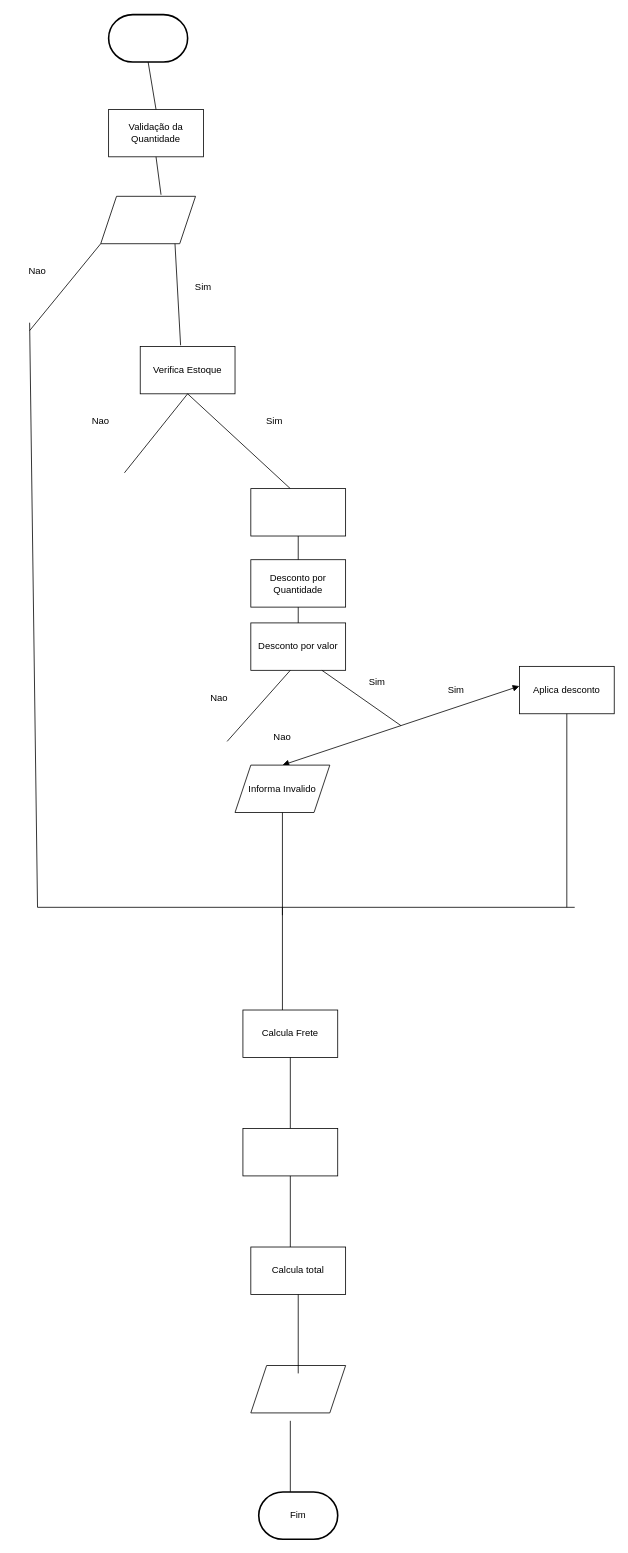
This 628x1553 diagram has some shape labels left out. Here are the shapes that lost their labels. From the top down, the centre of each, then its label:
(147,37): INICIO
(148,220): Entrada dos Dados
(298,512): Subtotal
(290,1152): Classifica pedido
(298,1389): Resultado Mostrado
